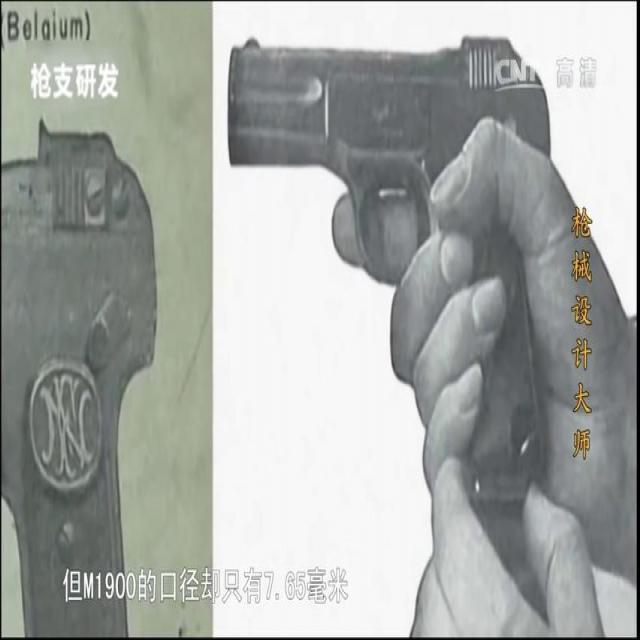rifle: (388, 116, 636, 586), (326, 41, 557, 503), (226, 34, 552, 286), (1, 117, 158, 637), (407, 272, 548, 634), (1, 121, 157, 382), (408, 456, 549, 637), (331, 147, 433, 284), (521, 479, 605, 637), (27, 358, 103, 491)
